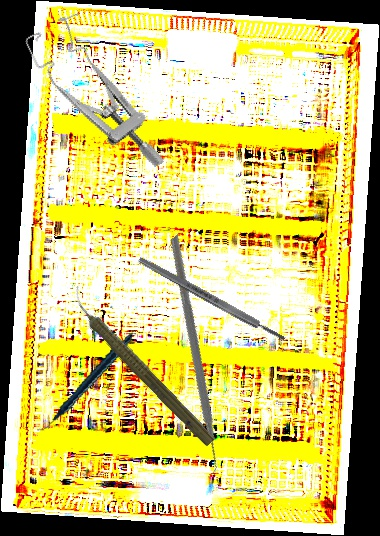Chopper: (65, 233, 313, 486)
Handpiece: (61, 284, 222, 450), (22, 333, 147, 432)
Scalpel Handle: (136, 254, 288, 344)
Speculum: (21, 3, 168, 195)
